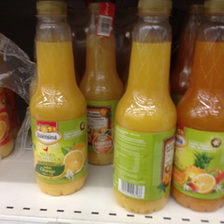juice: (113, 1, 177, 214), (29, 1, 88, 197), (173, 1, 222, 212)
